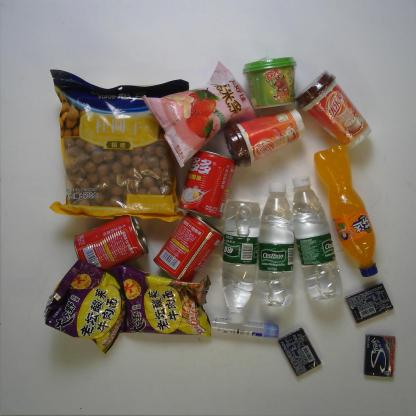Canned Food: (153, 213, 226, 286), (72, 214, 148, 275), (180, 146, 236, 221)
Dried Food: (46, 65, 190, 224)
Drink: (311, 144, 381, 280), (291, 173, 342, 302), (223, 198, 259, 328), (260, 180, 296, 308)
Gum: (278, 327, 323, 378), (345, 282, 394, 324), (363, 333, 397, 378)
Instant Drink: (294, 69, 372, 150), (224, 110, 306, 166), (243, 56, 298, 111)
Instant Noodles: (43, 259, 134, 354), (116, 265, 216, 336)
Puffed Food: (144, 62, 259, 168)
Stationery: (210, 314, 280, 339)
